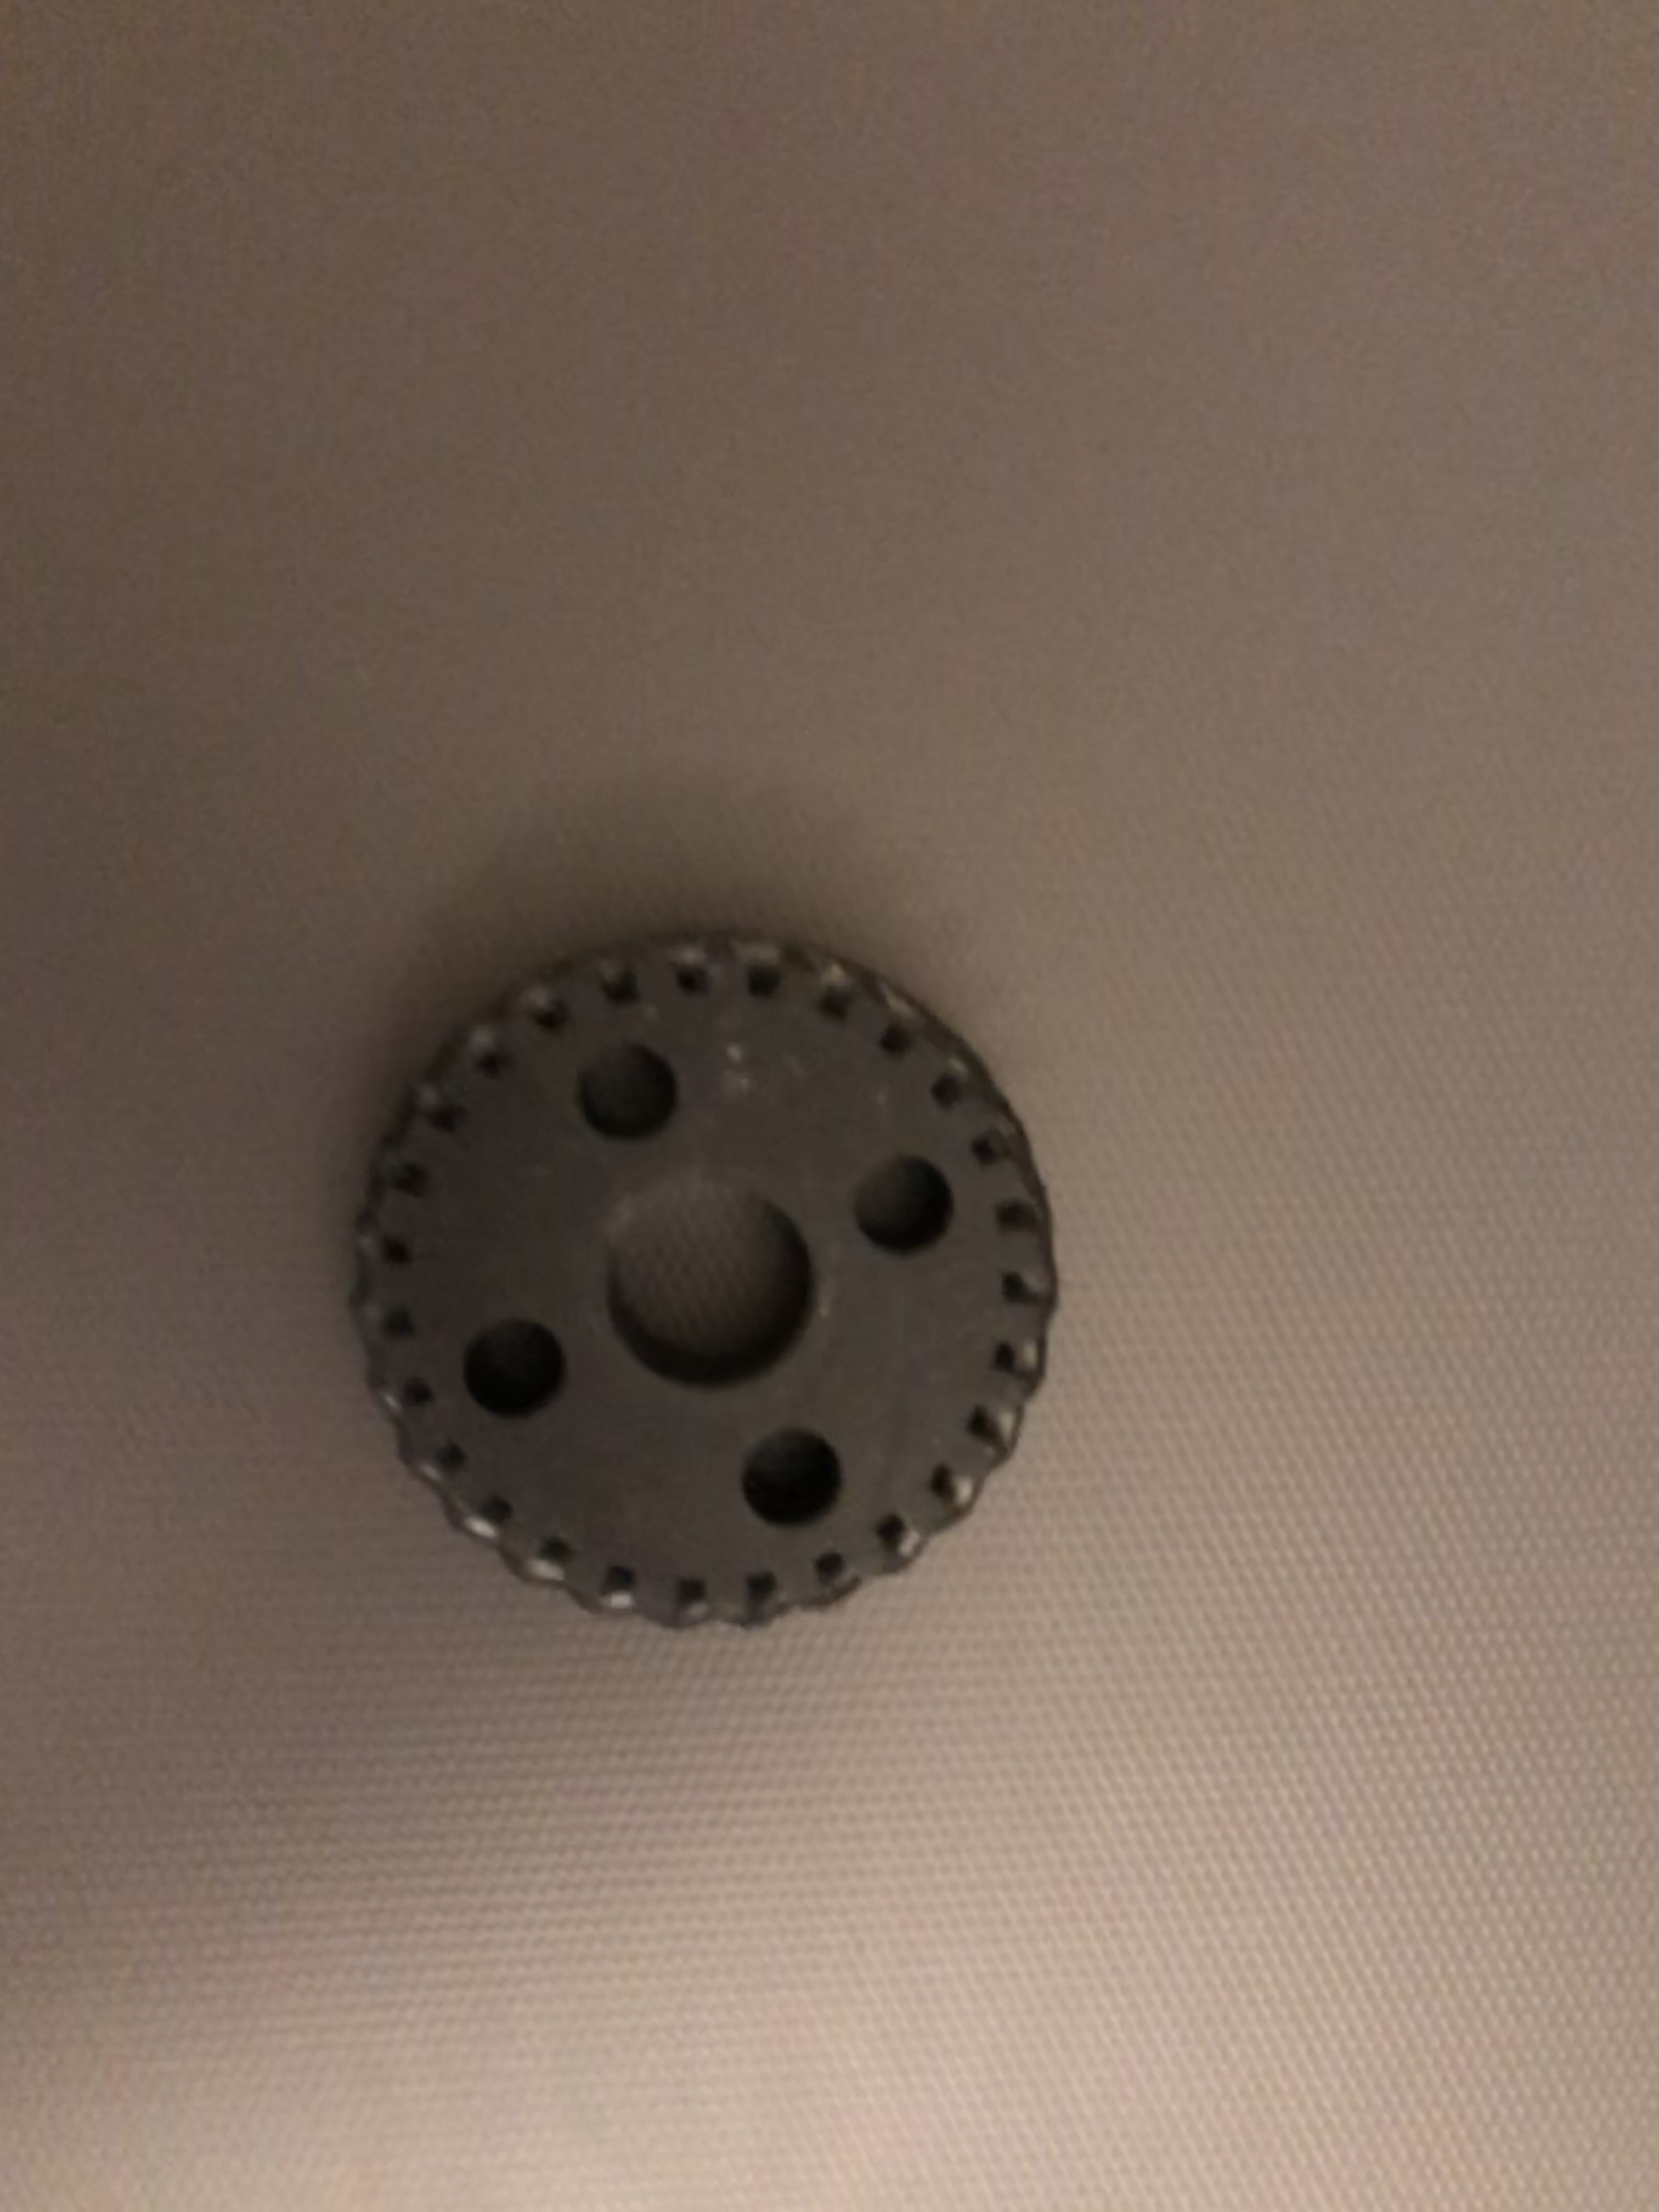Wheel: (335, 927, 1077, 1646)
